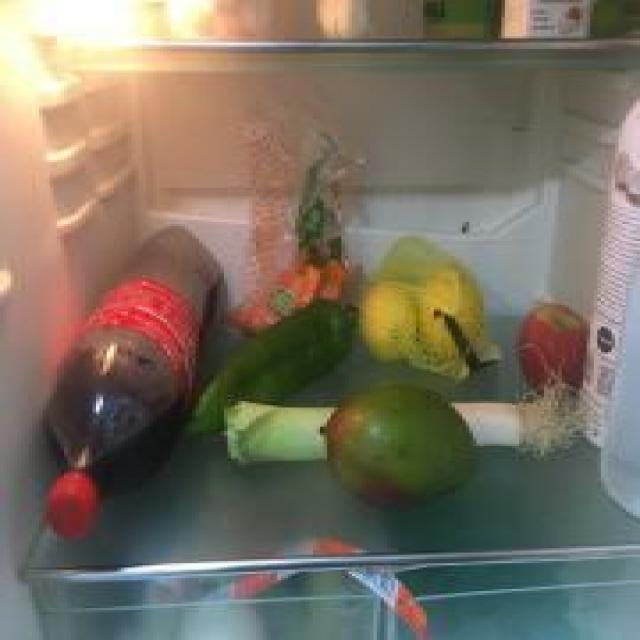apple: (519, 301, 580, 386)
bell_pepper: (183, 298, 347, 442)
leek: (473, 394, 583, 456), (231, 400, 327, 470)
lemon: (359, 281, 420, 364)
mango: (325, 382, 475, 514)
